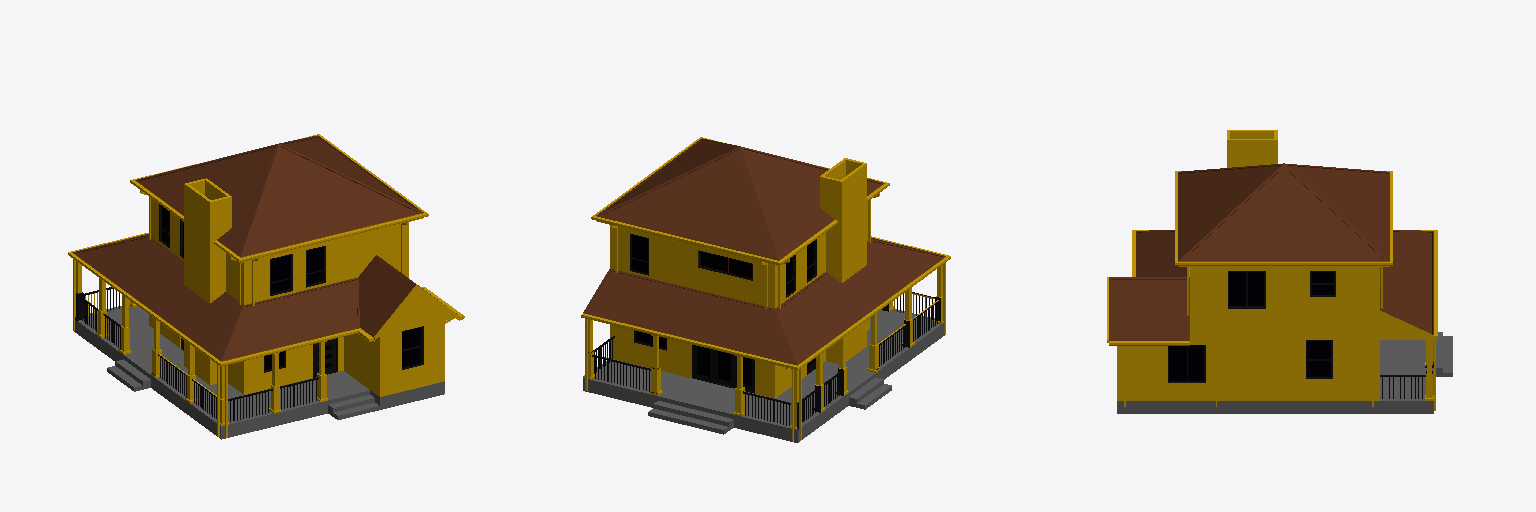
File: bighouse3.obj
3 views of the same model, side by side, from view 1: azimuth 30°, elevation 25°; view 2: azimuth 150°, elevation 25°; view 3: azimuth 270°, elevation 25° (orthographic).
Parts seen in each view (by area): view 1: house; view 2: house; view 3: house.
Boxes of the visible parts, box(x1,y1,x2,y2) form: house: box(68, 134, 464, 439); house: box(581, 137, 950, 442); house: box(1107, 130, 1452, 413).
Size of the model in its own units: 358 by 292 by 436.